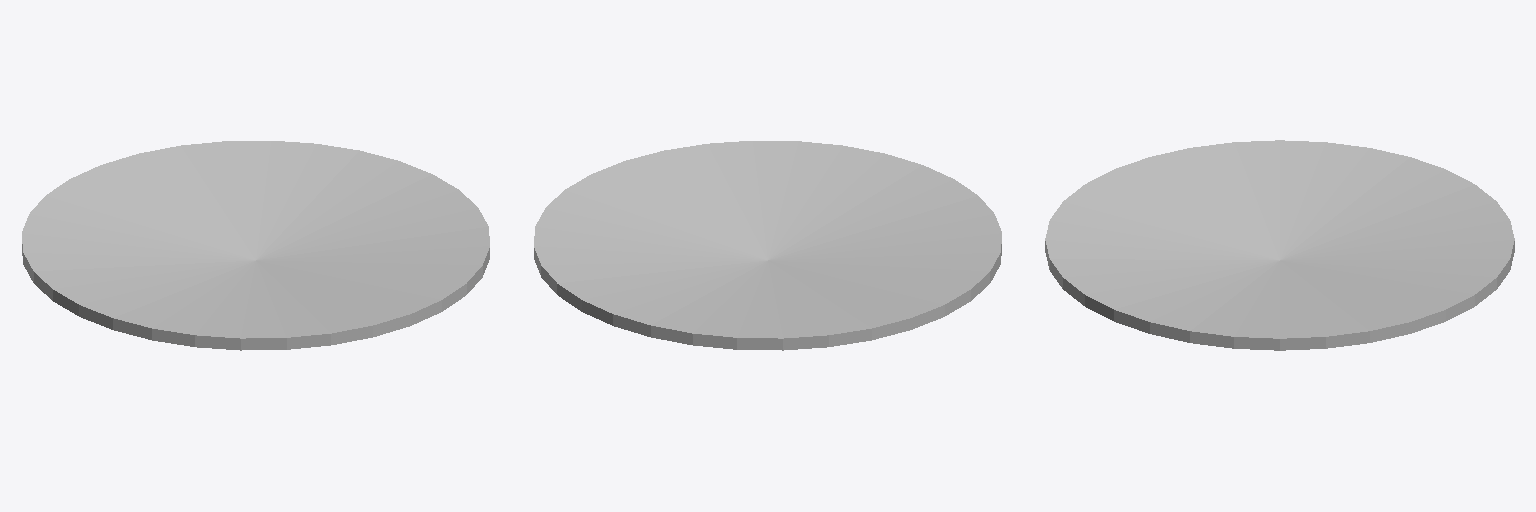
Rendered from sol_base_fusee_rouge.obj.
3 renders of one model, left to right at view 1: azimuth 30°, elevation 25°; view 2: azimuth 150°, elevation 25°; view 3: azimuth 270°, elevation 25°, orthographic.
Visible parts, largest first — view 1: base_fusee_bouchon; view 2: base_fusee_bouchon; view 3: base_fusee_bouchon.
Part boxes in pixels (x1,y1,x2,y2): base_fusee_bouchon: (22,141,489,350); base_fusee_bouchon: (534,141,1001,350); base_fusee_bouchon: (1045,140,1514,350).
Bounding box in the file's own units: 6.2 × 0.4792 × 6.2.